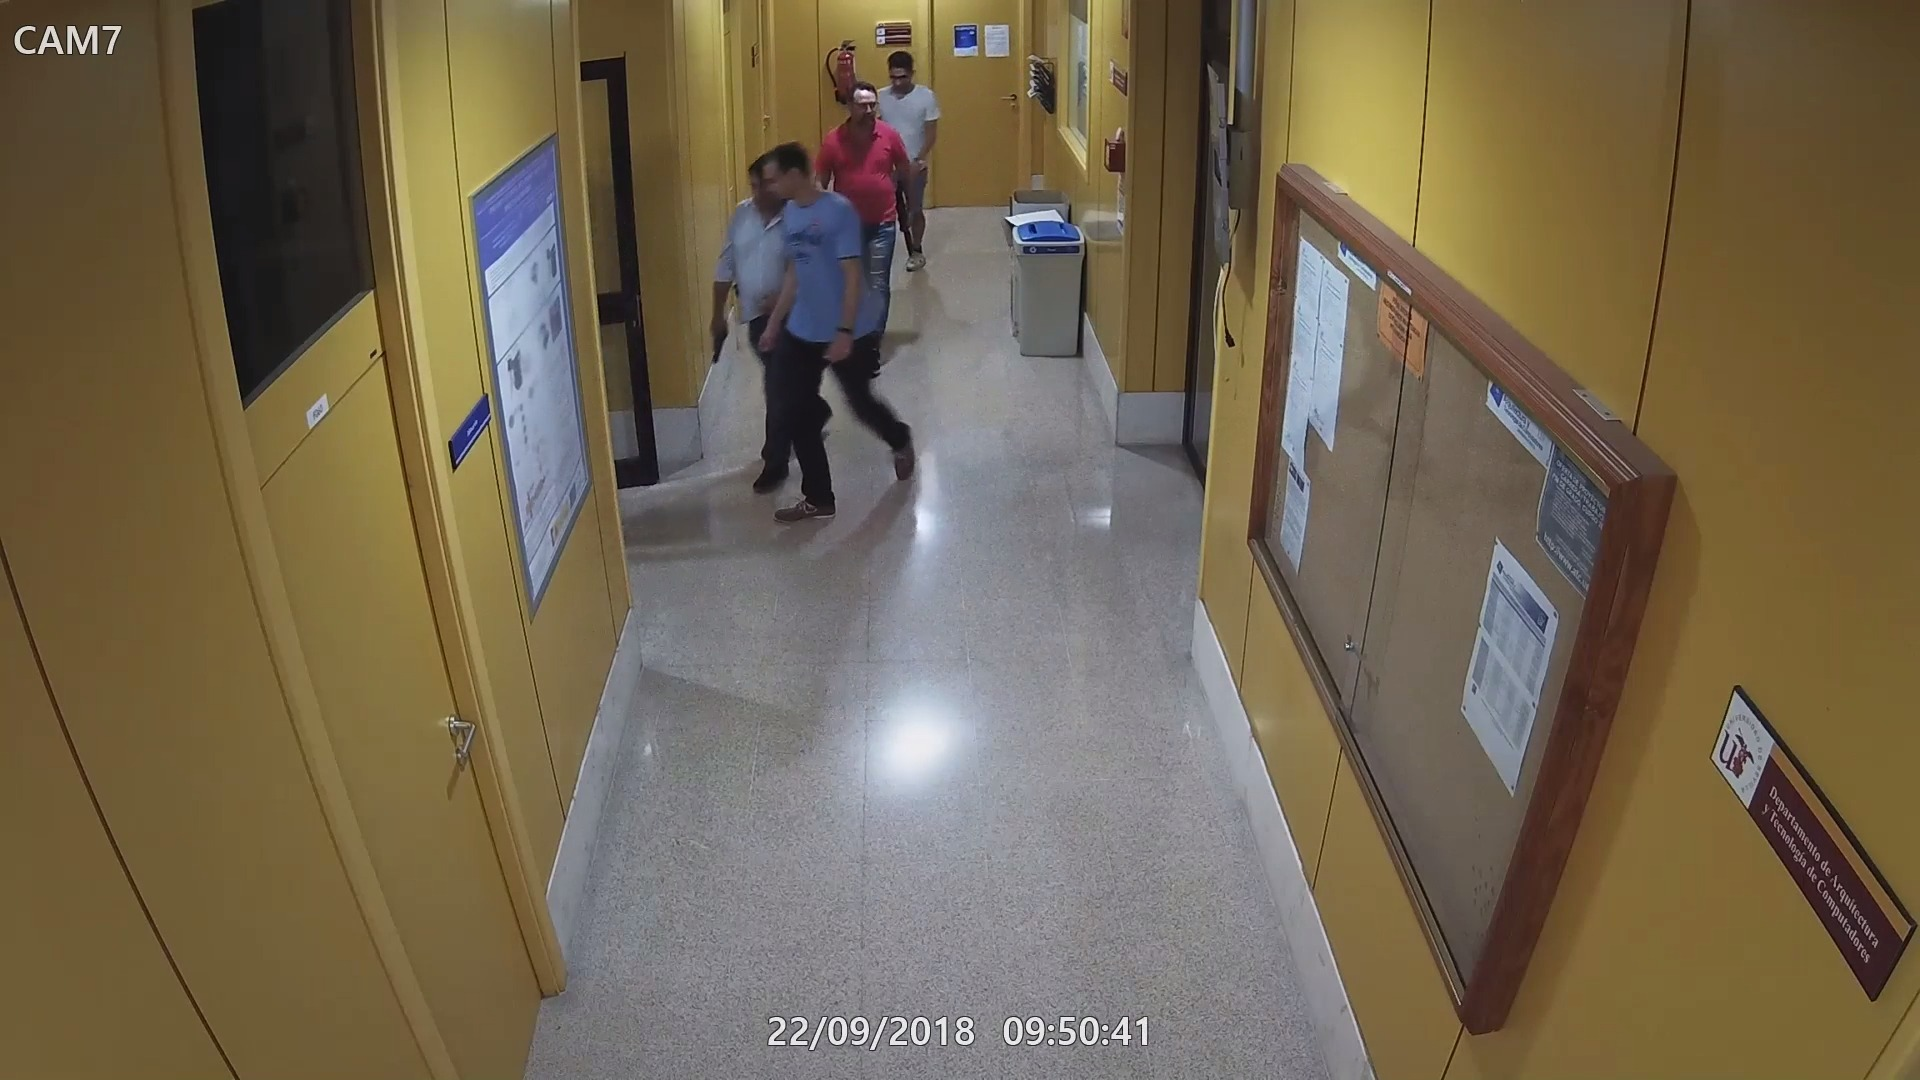Handgun: (705, 314, 733, 363)
Short_rifle: (889, 167, 914, 255)
